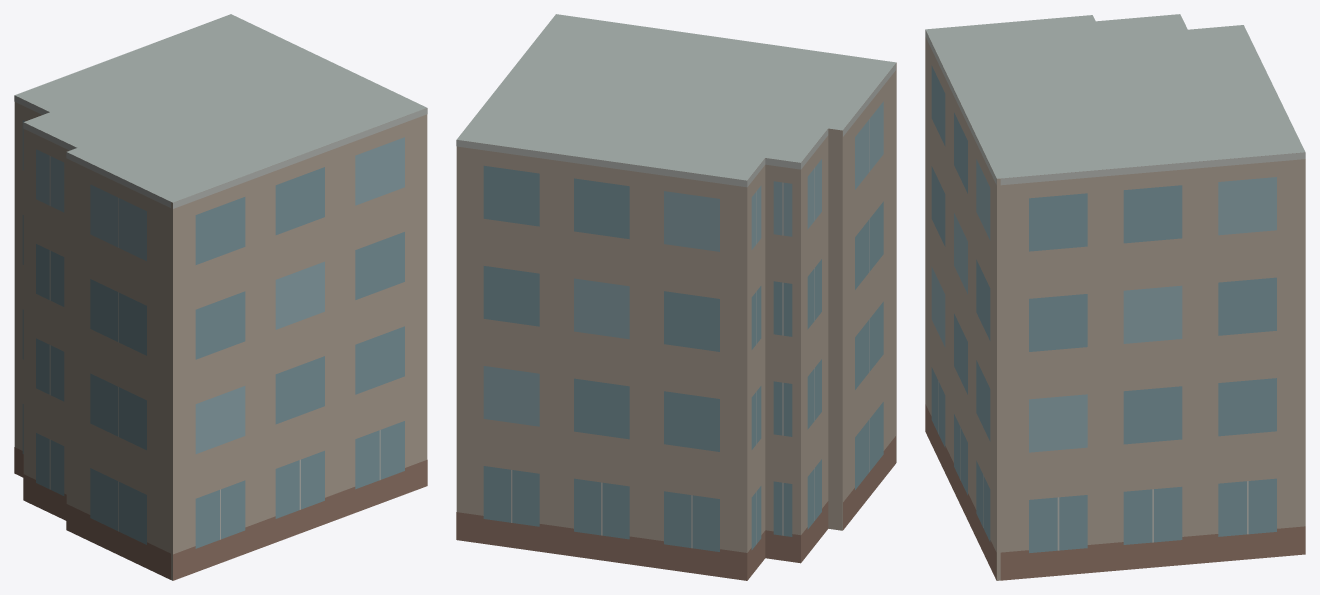
File: survey-upis-32658440.glb
3 renders of one model, left to right at view 1: azimuth 30°, elevation 25°; view 2: azimuth 150°, elevation 25°; view 3: azimuth 270°, elevation 25°, orthographic. The views are drawn at different scales.
Parts seen in each view (by area): view 1: survey-upis-32658440.tmp; view 2: survey-upis-32658440.tmp; view 3: survey-upis-32658440.tmp.
Part boxes in pixels (x1,y1,x2,y2): survey-upis-32658440.tmp: [14, 14, 427, 580]; survey-upis-32658440.tmp: [456, 14, 896, 580]; survey-upis-32658440.tmp: [925, 14, 1305, 580].
Bounding box in the file's own units: 12.7 × 14.44 × 12.39.
